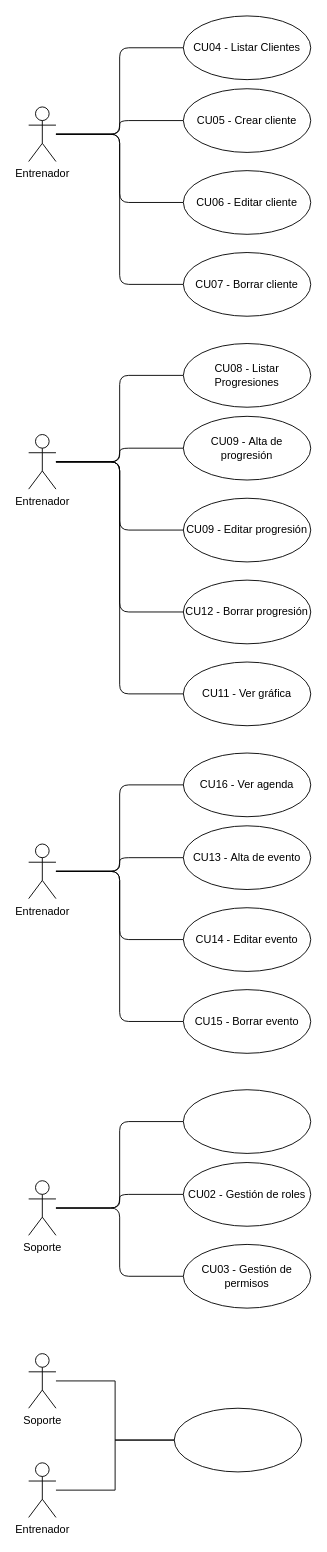
The diagram is 327 pixels wide and 1552 high, and some of its shapes have lost their labels. The centre of each missing label's shape, as x and y in pixels:
"CU00 - Login" goes at (x=237, y=1439).
"CU01 - Gestión de usuarios" goes at (x=246, y=1121).
